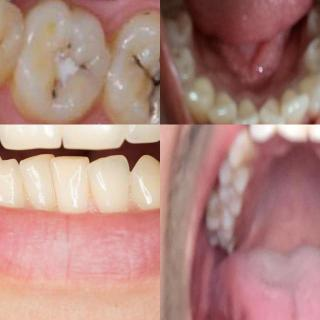cavities: (135, 41, 160, 113)
maligned: (0, 155, 26, 207), (282, 79, 308, 125), (206, 87, 234, 125), (218, 180, 242, 217), (258, 91, 284, 125), (237, 98, 261, 125)
